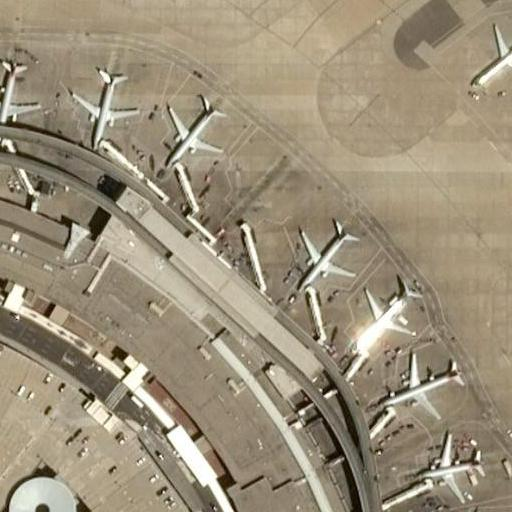Aircraft: (384, 345, 468, 418), (287, 212, 358, 290), (410, 430, 482, 503), (354, 277, 423, 350), (159, 93, 226, 168), (71, 64, 133, 143), (467, 18, 512, 93), (0, 55, 43, 132), (432, 504, 512, 512)
